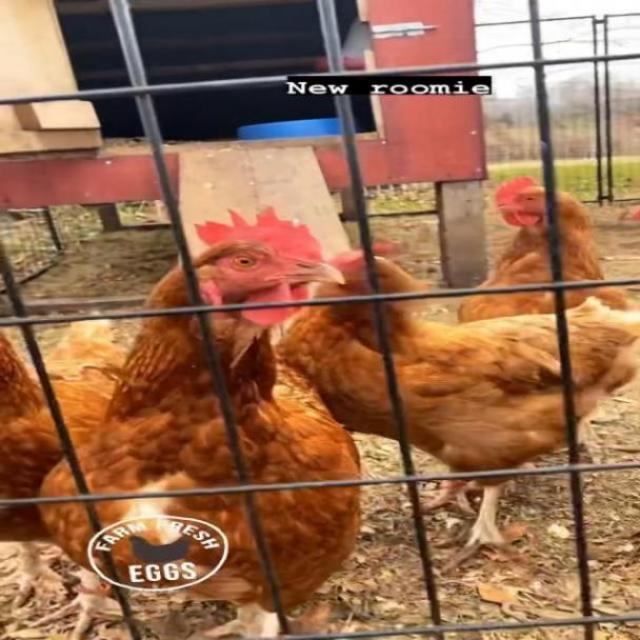Chicken: (35, 205, 365, 640), (273, 236, 640, 571), (0, 308, 141, 640), (451, 175, 636, 327)
